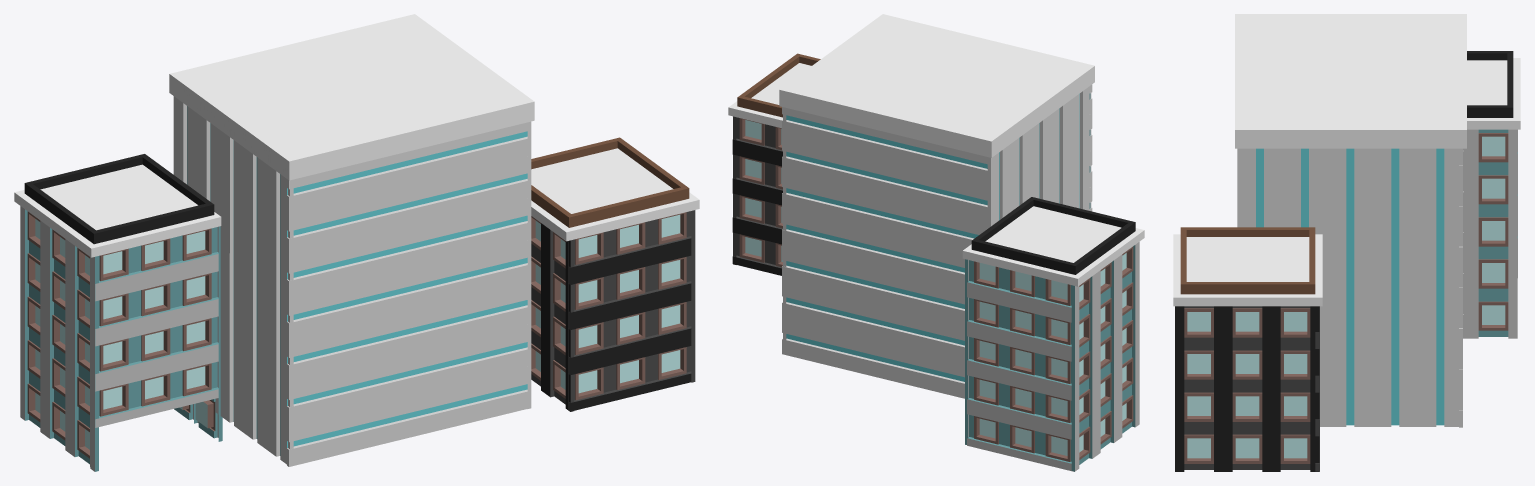
Rendered from Gedung 7.fbx.
3 views of the same model, side by side, from view 1: azimuth 30°, elevation 25°; view 2: azimuth 150°, elevation 25°; view 3: azimuth 270°, elevation 25° (orthographic). The views are drawn at different scales.
Visible parts, largest first — view 1: Rumah Gedung.001Shape; view 2: Rumah Gedung.001Shape; view 3: Rumah Gedung.001Shape.
Part boxes in pixels (x1,y1,x2,y2): Rumah Gedung.001Shape: (14,14,699,471); Rumah Gedung.001Shape: (728,14,1144,471); Rumah Gedung.001Shape: (1173,14,1520,471).
Bounding box in the file's own units: 341 × 214 × 209.
